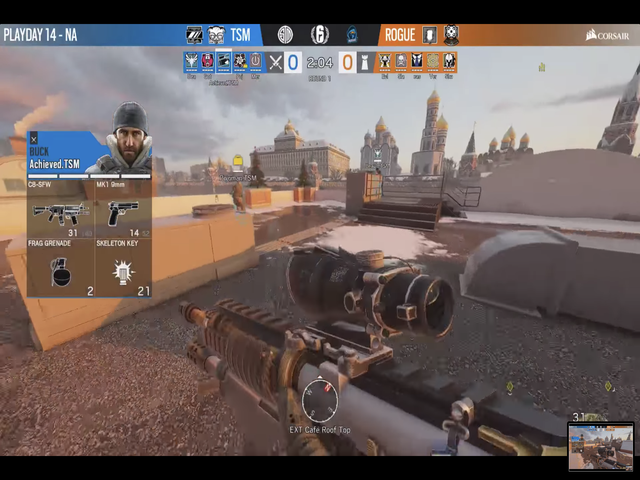0_blue: (283, 52, 302, 73)
